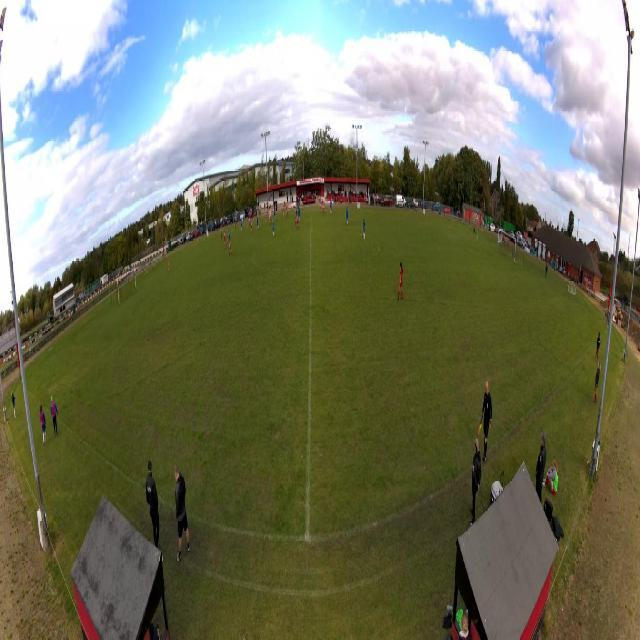player: (396, 261, 403, 301), (228, 237, 233, 257), (362, 217, 366, 241), (295, 214, 300, 231), (345, 206, 349, 226), (294, 206, 298, 225), (297, 206, 301, 223), (256, 214, 260, 231), (250, 219, 254, 235), (272, 219, 275, 239), (223, 230, 226, 249), (269, 211, 272, 228), (330, 199, 333, 215), (322, 200, 325, 216), (297, 199, 300, 215), (286, 204, 289, 220), (273, 207, 276, 223), (228, 227, 231, 243), (476, 228, 479, 244), (240, 218, 243, 233), (248, 213, 251, 227), (221, 225, 223, 239)
